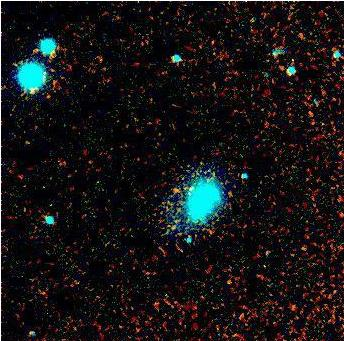star: (161, 175, 191, 205)
